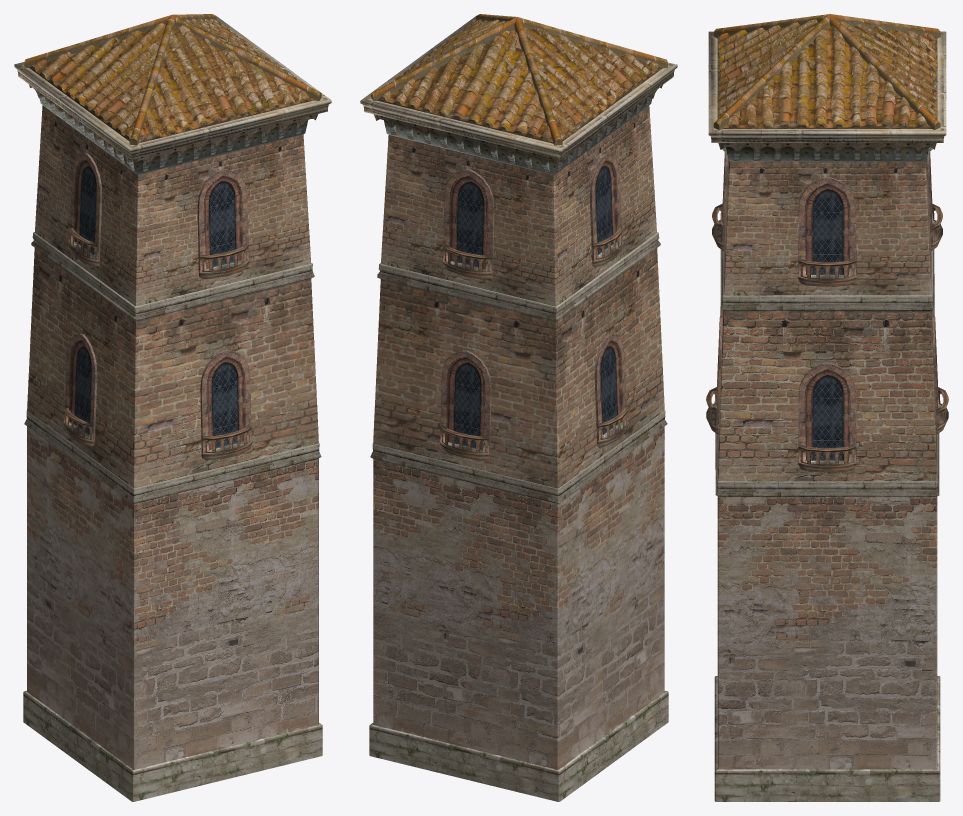
The model's file is Basic6.fbx.
3 views of the same model, side by side, from view 1: azimuth 30°, elevation 25°; view 2: azimuth 150°, elevation 25°; view 3: azimuth 270°, elevation 25° (orthographic). The views are drawn at different scales.
Parts seen in each view (by area): view 1: LV_Campagna_City_CommonBuilding05_SM_CNH; view 2: LV_Campagna_City_CommonBuilding05_SM_CNH; view 3: LV_Campagna_City_CommonBuilding05_SM_CNH.
Boxes of the visible parts, x1,y1,x2,y2 form: LV_Campagna_City_CommonBuilding05_SM_CNH: (14,14,331,801); LV_Campagna_City_CommonBuilding05_SM_CNH: (360,14,677,801); LV_Campagna_City_CommonBuilding05_SM_CNH: (706,14,948,801).
Size of the model in its own units: 1.68 by 5.65 by 1.68.
